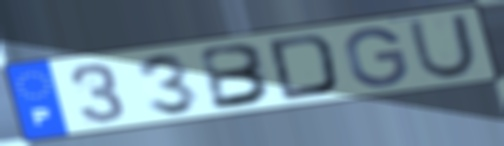3: (135, 50, 202, 117), (68, 60, 129, 126)
B: (198, 42, 276, 113)
D: (265, 31, 342, 103)
G: (343, 26, 411, 90)
U: (405, 12, 480, 82)
